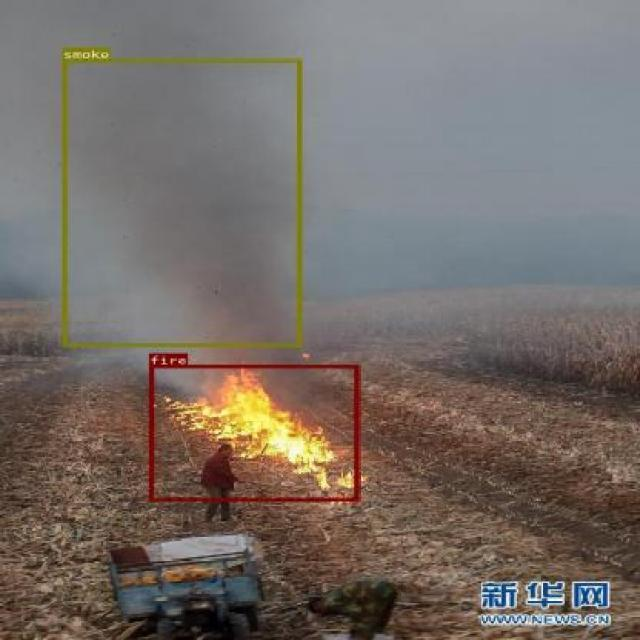Fire: (148, 364, 358, 500)
Smoke: (62, 58, 301, 346)
